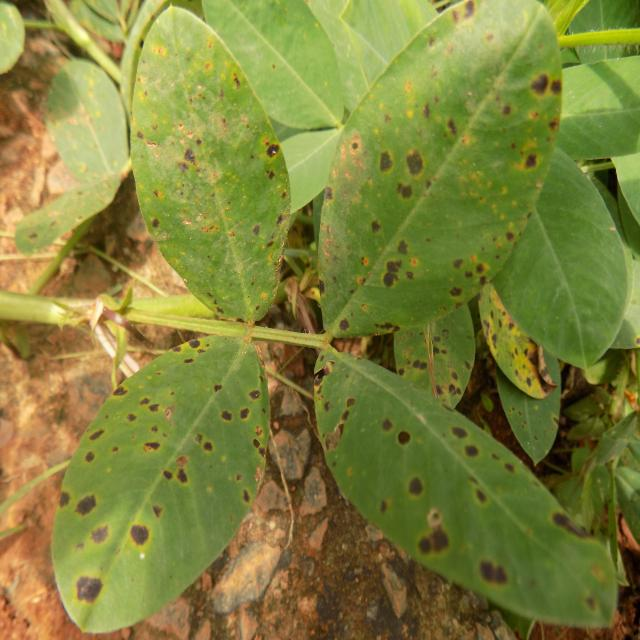Ground nut_tikka leaf spot: (316, 351, 621, 625), (318, 3, 565, 335), (52, 333, 268, 629), (129, 7, 291, 323)
